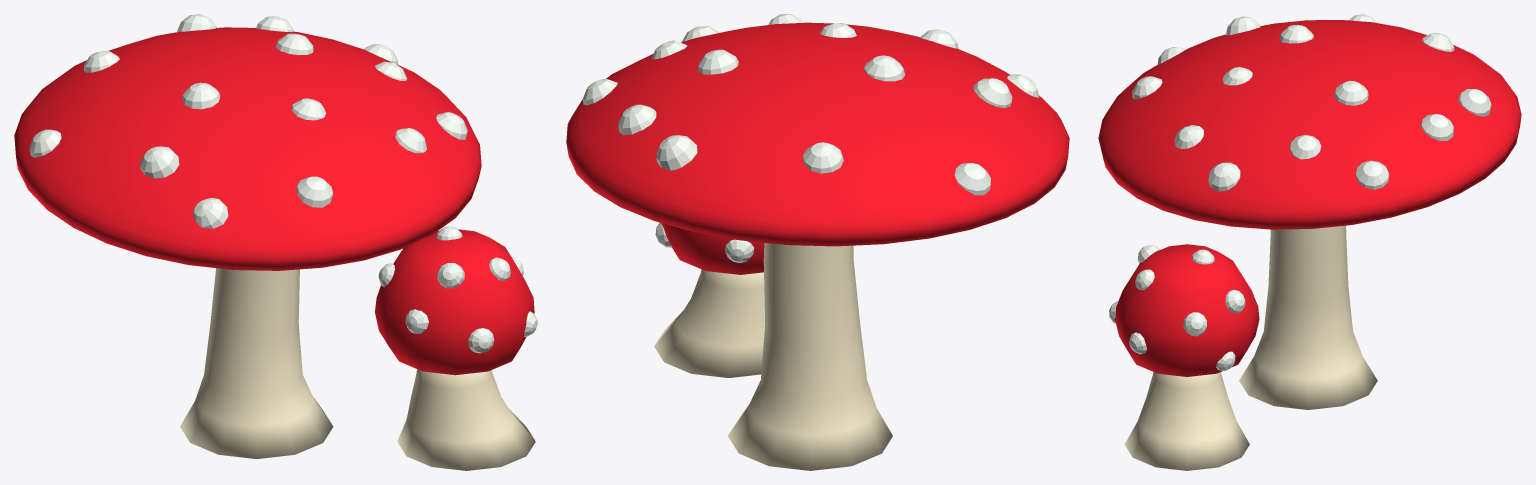
Rendered from Pilze2.fbx.
3 renders of one model, left to right at view 1: azimuth 30°, elevation 25°; view 2: azimuth 150°, elevation 25°; view 3: azimuth 270°, elevation 25°, orthographic. The views are drawn at different scales.
Parts seen in each view (by area): view 1: Fliegenpilz1, Stiel1, Fliegenpilz2, Stiel2, Punkt1.006, Punkt1.007, Punkt1.010, Punkt1.003, Punkt1.002, Punkt1.004, Punkt1.008, Punkt1.009 (+4 smaller); view 2: Fliegenpilz1, Stiel1, Stiel2, Fliegenpilz2, Punkt1.012, Punkt1, Punkt1.002, Punkt1.005, Punkt1.006, Punkt1.003, Punkt1.004, Punkt1.013 (+1 smaller); view 3: Fliegenpilz1, Stiel1, Fliegenpilz2, Stiel2, Punkt1.013, Punkt1.011, Punkt1.005, Punkt1.012, Punkt1.004, Punkt1.001, Punkt1.008, Punkt1.003 (+3 smaller).
Part boxes in pixels (bbox=[...]): Fliegenpilz1: bbox=[14, 27, 481, 270]; Stiel1: bbox=[180, 268, 333, 458]; Fliegenpilz2: bbox=[375, 229, 534, 375]; Stiel2: bbox=[397, 369, 535, 470]; Punkt1.006: bbox=[140, 146, 179, 178]; Punkt1.007: bbox=[296, 176, 333, 207]; Punkt1.010: bbox=[193, 198, 228, 228]; Punkt1.003: bbox=[182, 82, 220, 109]; Punkt1.002: bbox=[29, 129, 61, 157]; Punkt1.004: bbox=[275, 33, 313, 55]; Punkt1.008: bbox=[395, 128, 426, 153]; Punkt1.009: bbox=[292, 98, 326, 120]; Fliegenpilz1: bbox=[566, 22, 1069, 246]; Stiel1: bbox=[728, 243, 892, 470]; Stiel2: bbox=[654, 269, 765, 377]; Fliegenpilz2: bbox=[659, 222, 764, 274]; Punkt1.012: bbox=[656, 135, 697, 170]; Punkt1: bbox=[802, 142, 843, 173]; Punkt1.002: bbox=[954, 163, 990, 195]; Punkt1.005: bbox=[618, 104, 656, 135]; Punkt1.006: bbox=[973, 78, 1012, 107]; Punkt1.003: bbox=[863, 55, 904, 81]; Punkt1.004: bbox=[698, 49, 738, 74]; Punkt1.013: bbox=[582, 78, 617, 105]; Fliegenpilz1: bbox=[1098, 20, 1521, 229]; Stiel1: bbox=[1239, 225, 1377, 409]; Fliegenpilz2: bbox=[1115, 244, 1259, 376]; Stiel2: bbox=[1124, 372, 1249, 470]; Punkt1.013: bbox=[1355, 160, 1389, 189]; Punkt1.011: bbox=[1208, 162, 1240, 191]; Punkt1.005: bbox=[1421, 114, 1453, 140]; Punkt1.012: bbox=[1458, 89, 1491, 116]; Punkt1.004: bbox=[1334, 80, 1368, 105]; Punkt1.001: bbox=[1289, 134, 1321, 159]; Punkt1.008: bbox=[1174, 125, 1203, 148]; Punkt1.003: bbox=[1279, 25, 1313, 43].
Size of the model in its own units: 26.76 by 22.41 by 26.21.
